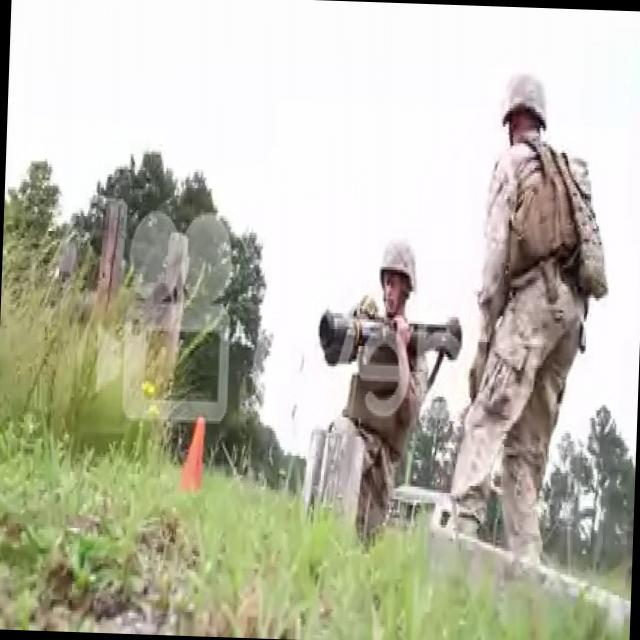rocket: (319, 308, 463, 366)
